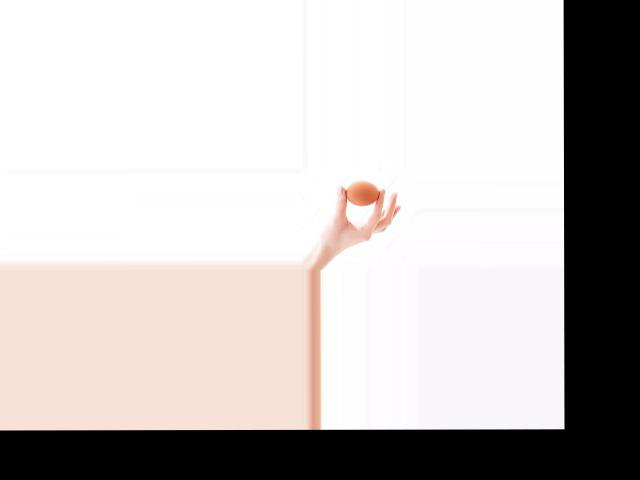egg: (345, 180, 379, 205)
